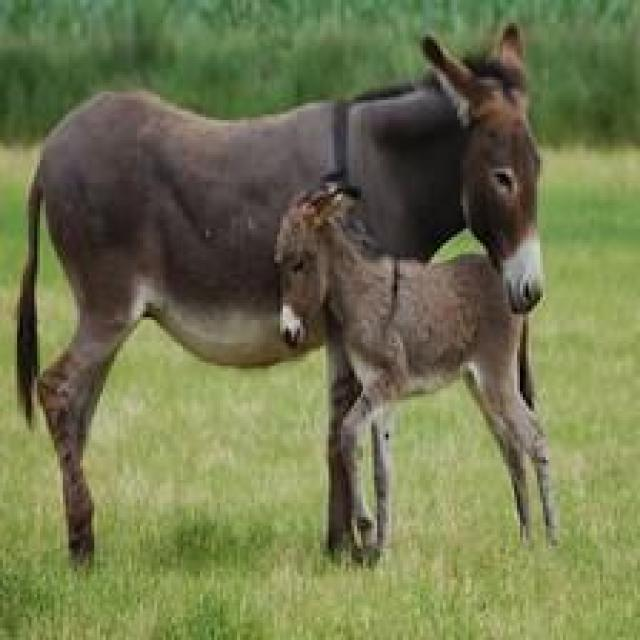Donkey: (14, 20, 543, 571), (271, 177, 560, 569)
